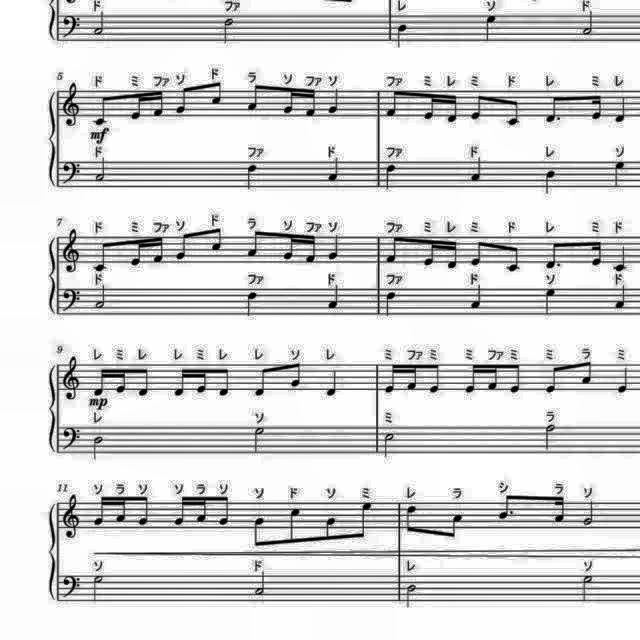Bass-clef: (60, 424, 84, 456), (60, 287, 84, 317), (60, 11, 84, 41), (60, 157, 84, 187), (60, 571, 84, 601)
Eighth-note: (353, 498, 375, 542), (284, 504, 304, 548), (88, 94, 112, 130), (90, 235, 110, 272), (445, 511, 467, 544), (544, 92, 566, 125), (494, 492, 518, 522), (253, 512, 271, 550), (135, 362, 153, 398), (254, 362, 272, 398), (502, 242, 522, 274), (466, 237, 486, 269), (544, 362, 564, 394), (244, 229, 264, 261), (544, 237, 564, 269), (244, 84, 264, 115), (467, 90, 485, 124), (135, 493, 153, 527), (503, 96, 522, 128), (174, 85, 192, 118), (215, 496, 232, 530), (404, 502, 421, 536), (215, 363, 232, 397), (174, 232, 192, 264), (385, 234, 403, 266), (384, 89, 402, 121), (426, 361, 442, 395), (506, 361, 522, 395), (321, 513, 339, 543), (578, 358, 596, 387), (207, 226, 225, 254), (208, 80, 226, 108), (286, 361, 302, 391)
Half-note: (220, 14, 237, 46), (577, 571, 595, 601), (579, 8, 597, 38), (241, 164, 259, 194), (90, 573, 106, 605), (404, 579, 421, 609), (251, 570, 269, 598), (91, 10, 109, 38), (544, 422, 560, 453), (250, 426, 266, 456), (582, 499, 598, 528), (382, 432, 398, 461), (94, 284, 110, 312), (94, 156, 110, 184), (90, 434, 106, 462)
Quarter-note: (612, 242, 632, 274), (242, 287, 262, 317), (323, 368, 341, 399), (382, 163, 400, 193), (483, 11, 501, 41), (542, 284, 558, 316), (614, 94, 630, 126), (384, 289, 401, 319), (327, 234, 345, 262), (324, 282, 342, 310), (467, 282, 485, 310), (324, 156, 342, 184), (467, 156, 485, 184), (616, 364, 632, 394), (614, 157, 630, 187), (542, 168, 558, 196), (614, 284, 630, 312), (326, 88, 342, 116), (393, 22, 409, 50)
Sixteenth-note: (128, 235, 146, 269), (379, 360, 397, 394), (461, 363, 479, 397), (550, 496, 570, 526), (129, 92, 147, 125), (173, 364, 190, 398), (421, 235, 439, 267), (421, 90, 439, 122), (588, 92, 606, 124), (442, 235, 458, 269), (173, 495, 190, 527), (90, 494, 106, 528), (442, 90, 458, 124), (150, 234, 167, 266), (150, 88, 167, 120), (588, 239, 606, 269), (90, 364, 106, 396), (304, 234, 320, 266), (303, 88, 319, 120), (280, 85, 296, 116), (280, 232, 296, 262), (113, 496, 129, 526), (406, 362, 422, 392), (486, 362, 502, 392), (194, 496, 208, 526), (114, 366, 128, 396), (197, 366, 211, 394)
Treble-clef: (60, 352, 84, 403), (60, 227, 84, 277), (60, 79, 84, 129), (60, 491, 84, 541)
